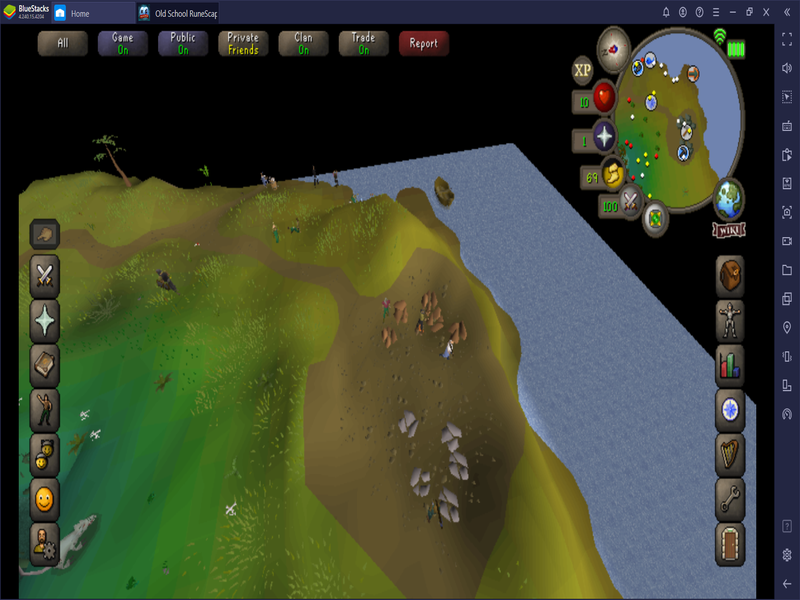copper_rock_1: (379, 325, 402, 350)
copper_rock_2: (391, 298, 411, 328)
